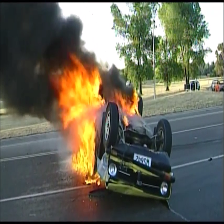fire_h: (50, 53, 105, 175), (107, 88, 140, 117)
fire_l: (85, 172, 100, 186), (122, 115, 129, 126)
